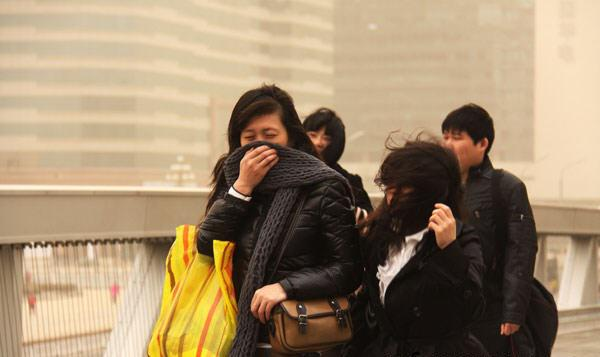NONE: (443, 128, 485, 172), (308, 131, 334, 160)
OK: (240, 120, 291, 171)
